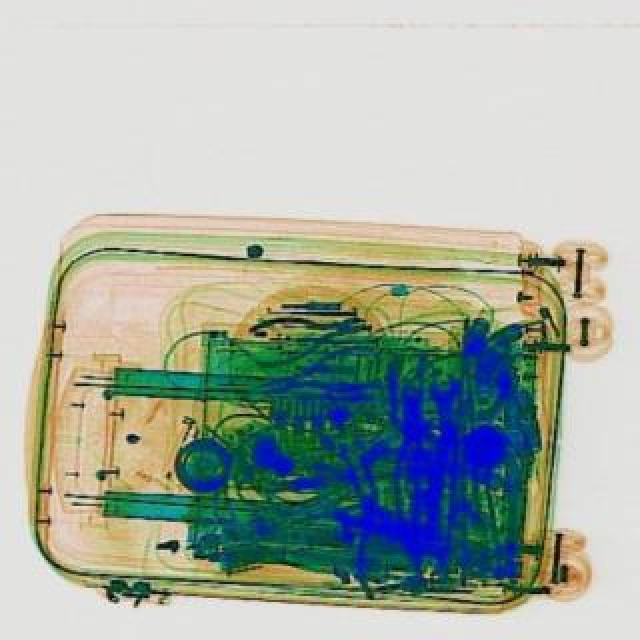scissors: (422, 376, 466, 450)
wrench: (236, 336, 380, 414), (242, 298, 372, 372)
